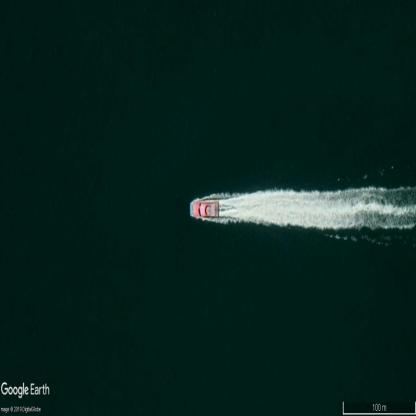ship: (192, 201, 219, 218)
